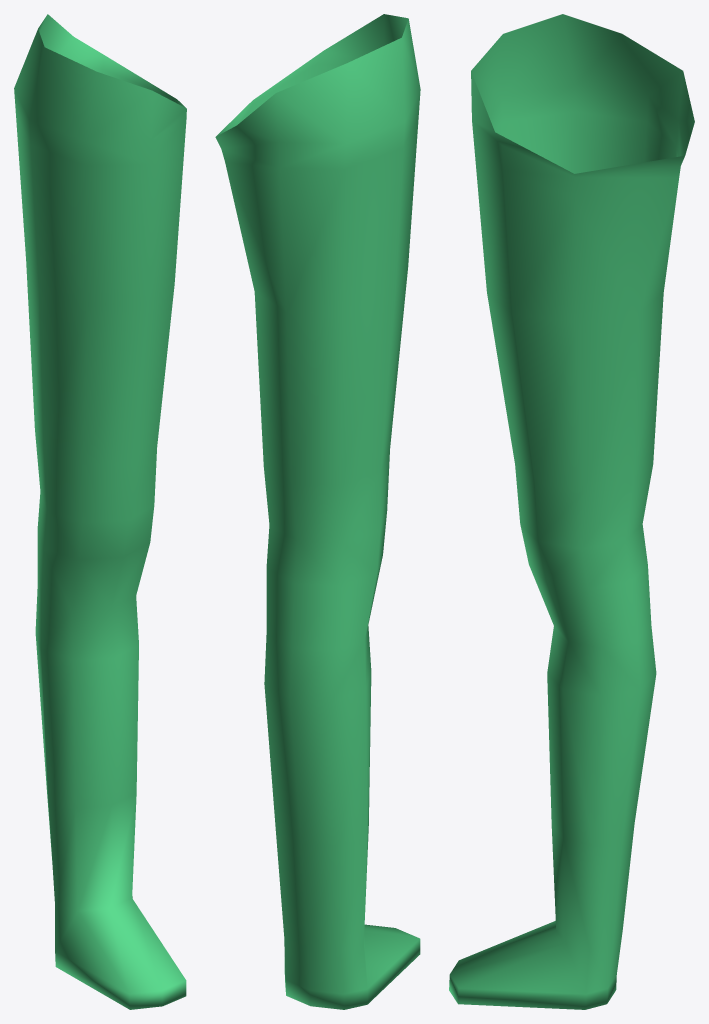
The model's file is NM_zombie_rightleg.obj.
3 views of the same model, side by side, from view 1: azimuth 30°, elevation 25°; view 2: azimuth 150°, elevation 25°; view 3: azimuth 270°, elevation 25° (orthographic). The views are drawn at different scales.
Visible parts, largest first — view 1: Cylinder001; view 2: Cylinder001; view 3: Cylinder001.
Part boxes in pixels (x1,y1,x2,y2): Cylinder001: (14, 14, 186, 1009); Cylinder001: (215, 14, 420, 1009); Cylinder001: (449, 14, 694, 1009).
Size of the model in its own units: 6.38 by 38.55 by 9.09.
